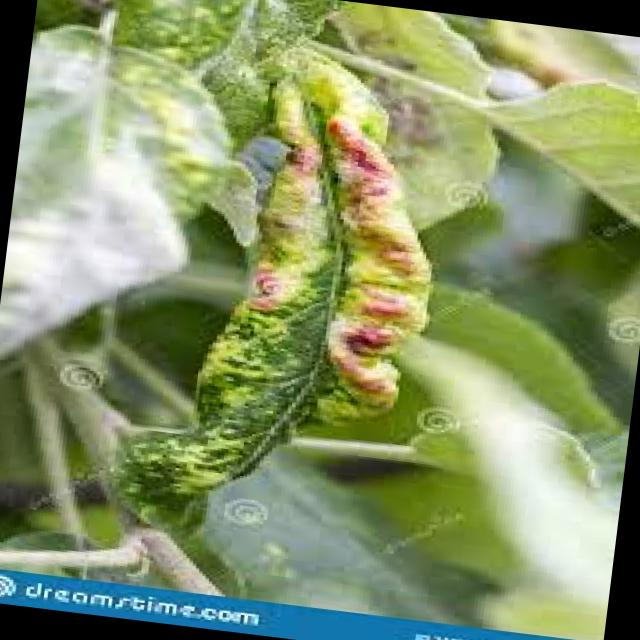Chilli_Leaf_Curl: (0, 0, 640, 635), (100, 28, 460, 559), (0, 15, 281, 389), (224, 41, 460, 422), (470, 64, 640, 234)
